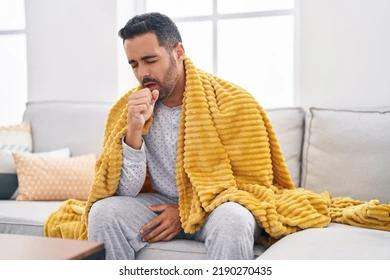blanket: (44, 54, 390, 249)
long sleeve shirt: (115, 97, 186, 201)
trousers: (86, 193, 260, 260)
